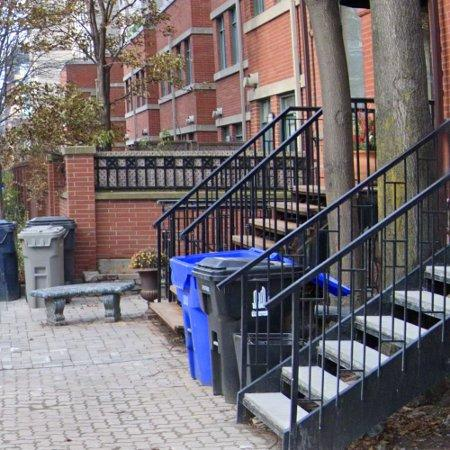stairs: (240, 173, 450, 450)
